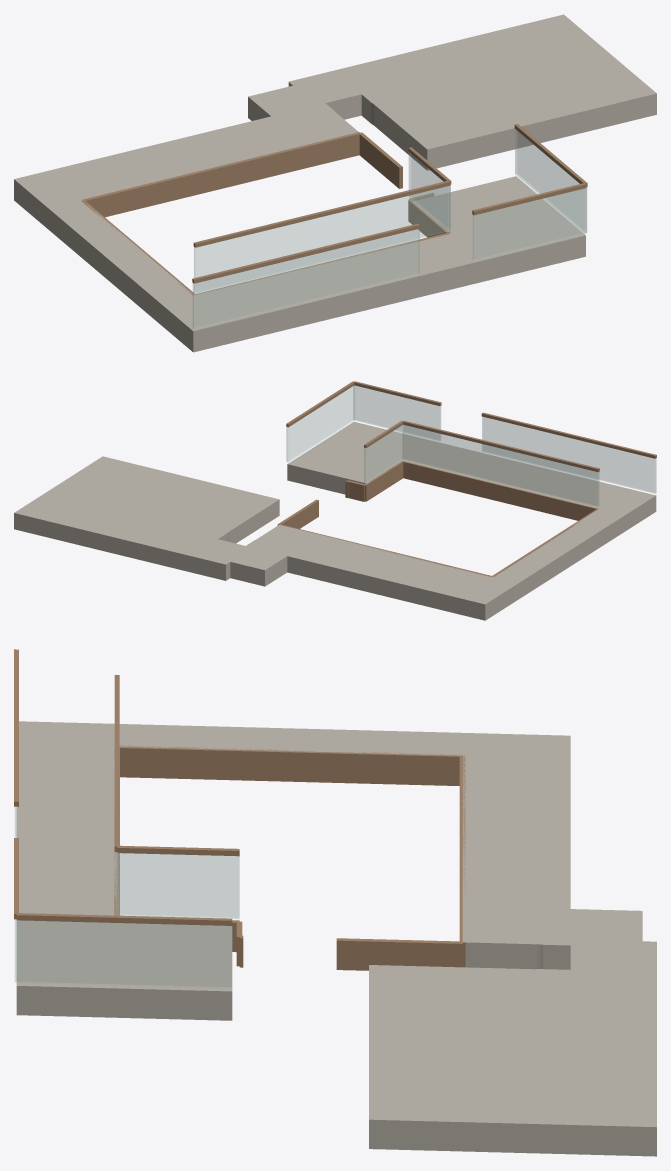
File: PERIMETER_792_r002.glb
3 views of the same model, one above another, from view 1: azimuth 30°, elevation 25°; view 2: azimuth 150°, elevation 25°; view 3: azimuth 270°, elevation 25° (orthographic). The views are drawn at different scales.
Visible parts, largest first — view 1: G2P_792_TERRACE_r002, G2P_792_RearGuardGlass_0, G2P_792_OuterGuard_2, G2P_792_PitEdge_0_0, G2P_792_OuterGuard_1, G2P_792_OuterGuard_0, G2P_792_RearGuardGlass_1, G2P_792_RearGuardRail_0, G2P_792_OuterRail_2, G2P_792_PitEdge_5_0, G2P_792_PitEdge_3_0, G2P_792_OuterRail_1 (+1 smaller); view 2: G2P_792_TERRACE_r002, G2P_792_RearGuardGlass_0, G2P_792_OuterGuard_2, G2P_792_PitEdge_2_0, G2P_792_OuterGuard_1, G2P_792_OuterGuard_0, G2P_792_RearGuardGlass_1, G2P_792_RearGuardRail_0, G2P_792_OuterRail_2, G2P_792_PitEdge_3_0, G2P_792_PitEdge_5_0, G2P_792_OuterRail_1 (+2 smaller); view 3: G2P_792_TERRACE_r002, G2P_792_OuterGuard_0, G2P_792_PitEdge_1_0, G2P_792_RearGuardGlass_1, G2P_792_PitEdge_5_0, G2P_792_OuterRail_0, G2P_792_PitEdge_0_0, G2P_792_RearGuardRail_0, G2P_792_RearGuardRail_1, G2P_792_OuterRail_2.
Part boxes in pixels (x1,y1,x2,y2): G2P_792_TERRACE_r002: (14, 14, 656, 352); G2P_792_RearGuardGlass_0: (194, 186, 449, 292); G2P_792_OuterGuard_2: (193, 229, 419, 328); G2P_792_PitEdge_0_0: (82, 132, 360, 217); G2P_792_OuterGuard_1: (473, 188, 586, 260); G2P_792_OuterGuard_0: (515, 129, 586, 232); G2P_792_RearGuardGlass_1: (409, 153, 450, 230); G2P_792_RearGuardRail_0: (193, 180, 450, 247); G2P_792_OuterRail_2: (192, 223, 419, 283); G2P_792_PitEdge_5_0: (359, 132, 402, 188); G2P_792_PitEdge_3_0: (408, 199, 450, 237); G2P_792_OuterRail_1: (472, 183, 586, 215); G2P_792_TERRACE_r002: (14, 421, 656, 620); G2P_792_RearGuardGlass_0: (402, 425, 599, 506); G2P_792_OuterGuard_2: (482, 417, 656, 493); G2P_792_PitEdge_2_0: (402, 461, 598, 520); G2P_792_OuterGuard_1: (353, 385, 440, 440); G2P_792_OuterGuard_0: (286, 385, 354, 462); G2P_792_RearGuardGlass_1: (364, 425, 403, 482); G2P_792_RearGuardRail_0: (402, 420, 599, 472); G2P_792_OuterRail_2: (481, 412, 656, 458); G2P_792_PitEdge_3_0: (365, 461, 403, 501); G2P_792_PitEdge_5_0: (277, 499, 318, 528); G2P_792_OuterRail_1: (354, 381, 441, 405); G2P_792_TERRACE_r002: (16, 721, 656, 1156); G2P_792_OuterGuard_0: (17, 920, 231, 988); G2P_792_PitEdge_1_0: (119, 745, 461, 785); G2P_792_RearGuardGlass_1: (117, 853, 239, 918); G2P_792_PitEdge_5_0: (336, 938, 462, 970); G2P_792_OuterRail_0: (16, 913, 232, 925); G2P_792_PitEdge_0_0: (459, 755, 465, 967); G2P_792_RearGuardRail_0: (114, 675, 119, 851); G2P_792_RearGuardRail_1: (117, 845, 239, 856); G2P_792_OuterRail_2: (14, 649, 18, 806).
Size of the model in its own units: 13.35 by 1.55 by 8.93.
